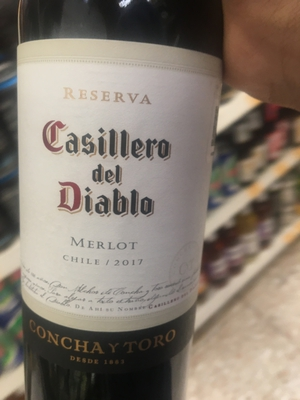casillero del diablo merlot: (13, 3, 227, 400)
